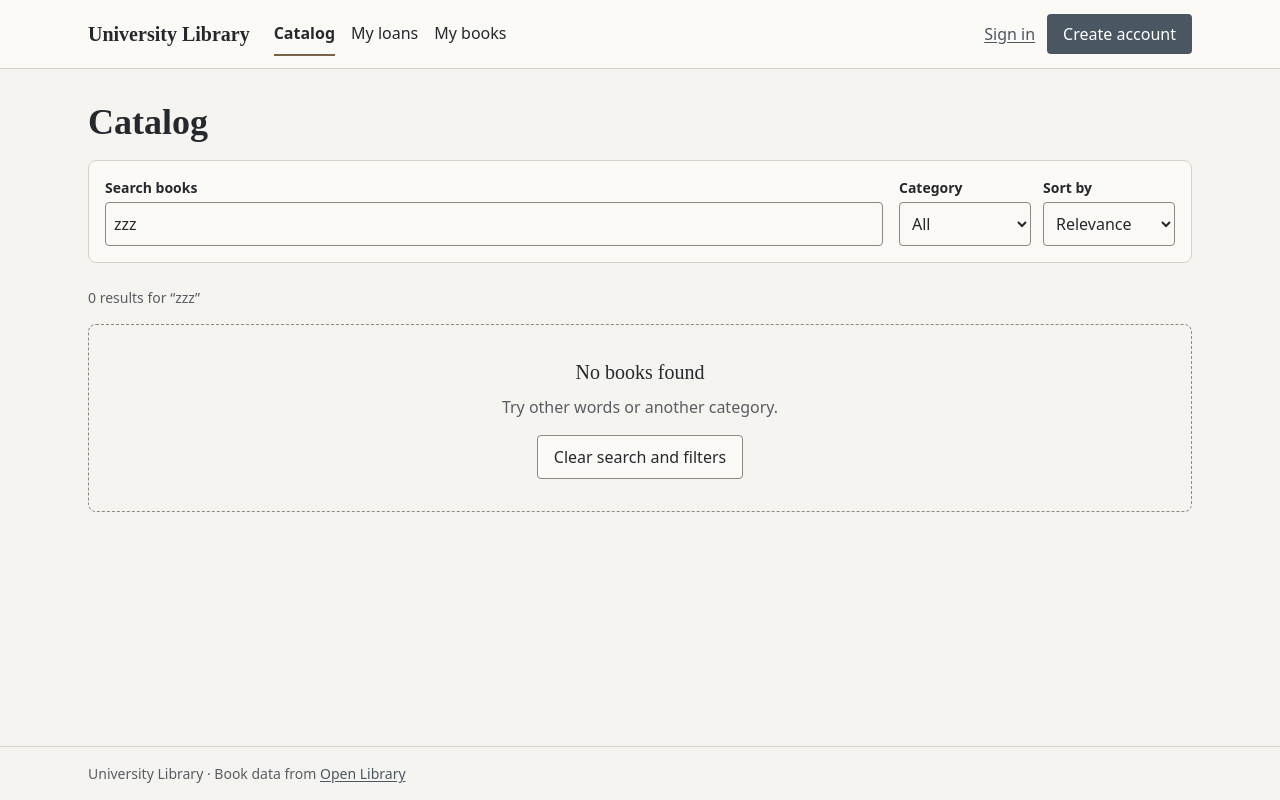
Catálogo (integración) › sin resultados muestra el estado vacío y "Limpiar" vuelve al catálogo
Check: the text "No books found" is shown, box [576,357,704,387]
Click the button "Clear search and filters" at [640, 457], box [537,435,743,479]
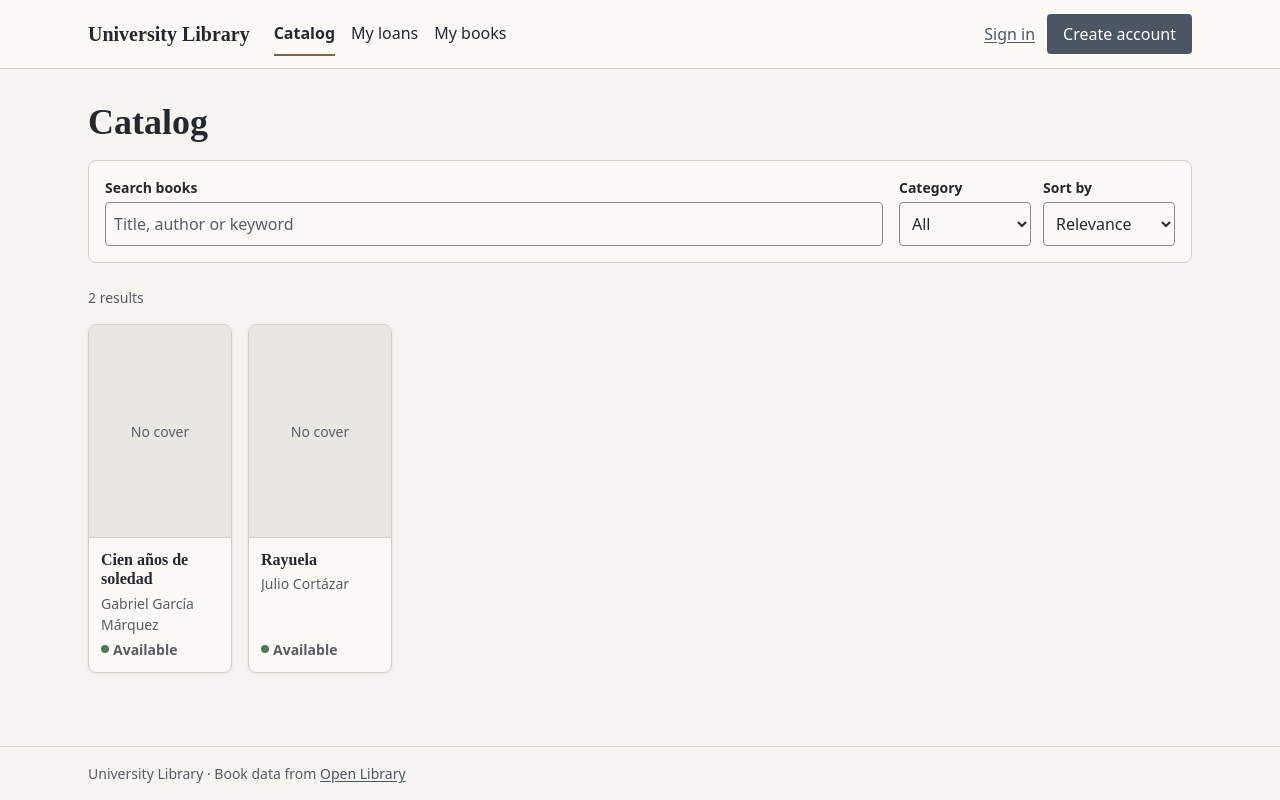
Check: the search field labelled "Search books" is empty, box [105,202,883,246]
Check: the link "Rayuela" is shown, box [261,551,317,568]
